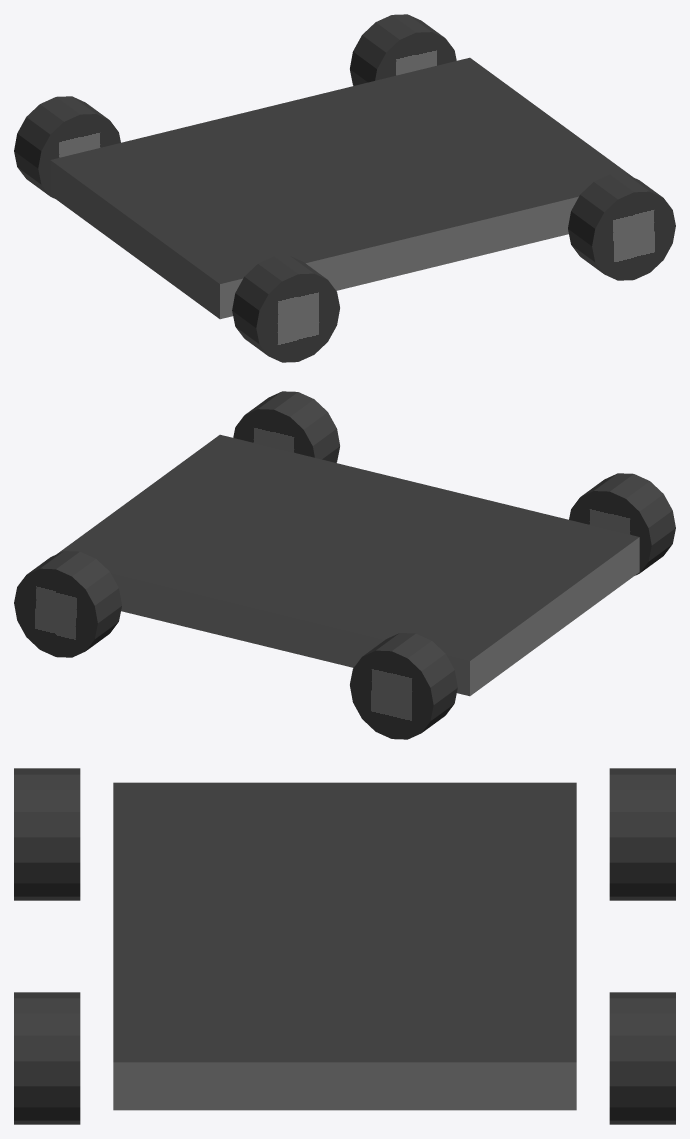
File: trolley.fbx
3 renders of one model, top to bottom at view 1: azimuth 30°, elevation 25°; view 2: azimuth 150°, elevation 25°; view 3: azimuth 270°, elevation 25°, orthographic. The views are drawn at different scales.
Visible parts, largest first — view 1: trolley_platform, trolley_wheelFront.L, trolley_wheelBack.L, trolley_wheelFront.R, trolley_wheelBack.R; view 2: trolley_platform, trolley_wheelFront.R, trolley_wheelBack.R, trolley_wheelFront.L, trolley_wheelBack.L; view 3: trolley_platform, trolley_wheelFront.R, trolley_wheelBack.R, trolley_wheelBack.L, trolley_wheelFront.L.
Part boxes in pixels (left/top/right/bottom): trolley_platform: left=50, top=57, right=632, bottom=319; trolley_wheelFront.L: left=232, top=256, right=339, bottom=362; trolley_wheelBack.L: left=568, top=174, right=675, bottom=280; trolley_wheelFront.R: left=14, top=96, right=120, bottom=198; trolley_wheelBack.R: left=350, top=14, right=456, bottom=85; trolley_platform: left=57, top=434, right=639, bottom=696; trolley_wheelFront.R: left=350, top=633, right=457, bottom=739; trolley_wheelBack.R: left=14, top=551, right=121, bottom=657; trolley_wheelFront.L: left=569, top=473, right=675, bottom=575; trolley_wheelBack.L: left=233, top=391, right=339, bottom=462; trolley_platform: left=113, top=782, right=576, bottom=1110; trolley_wheelFront.R: left=609, top=768, right=675, bottom=900; trolley_wheelBack.R: left=609, top=992, right=675, bottom=1124; trolley_wheelBack.L: left=14, top=992, right=80, bottom=1124; trolley_wheelFront.L: left=14, top=768, right=80, bottom=900.
Bounding box in the file's own units: 500 × 100 × 500.
